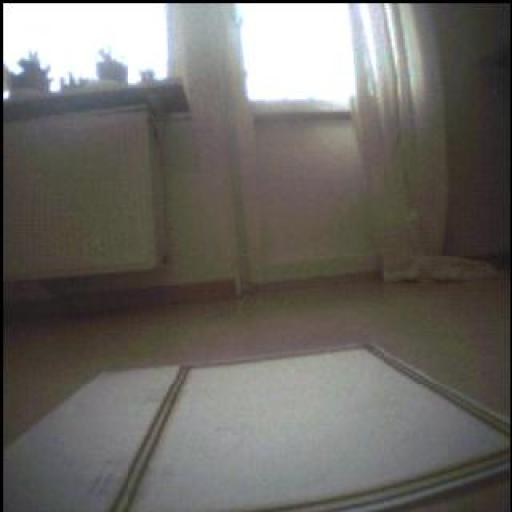Pad: (6, 347, 510, 512)
